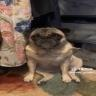dog: (23, 27, 83, 86)
